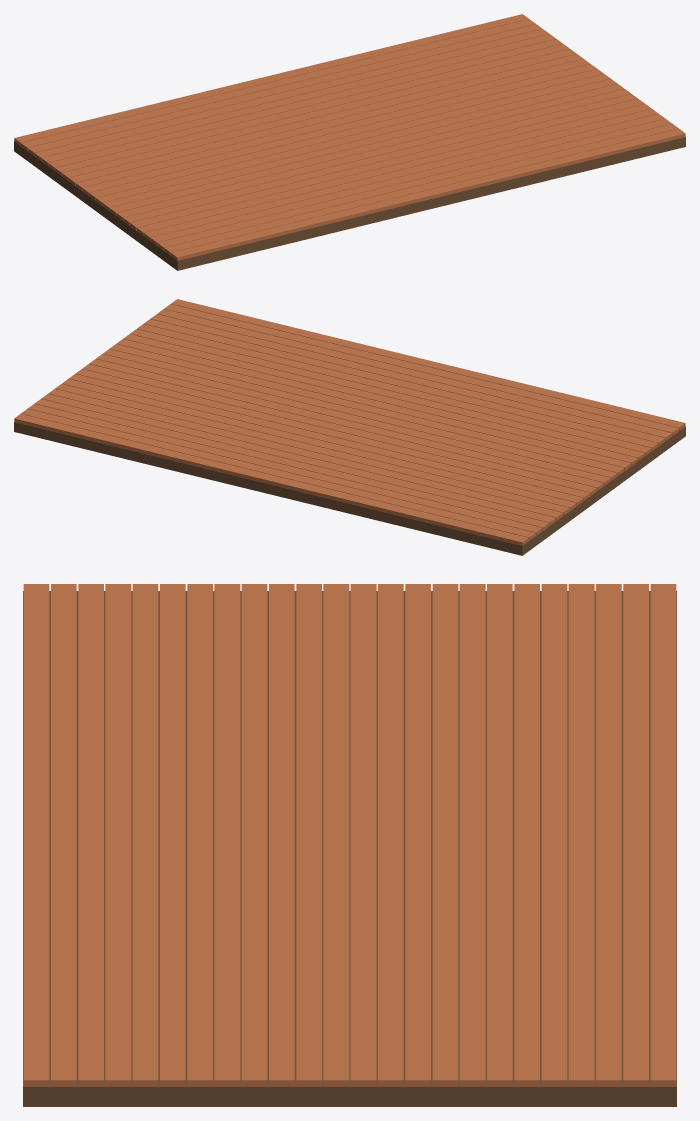
The model's file is PatioDeck.obj.
The picture shows the model from 3 angles, top to bottom: view 1: azimuth 30°, elevation 25°; view 2: azimuth 150°, elevation 25°; view 3: azimuth 270°, elevation 25°; orthographic projection. The views are drawn at different scales.
Visible parts, largest first — view 1: PatioDeck; view 2: PatioDeck; view 3: PatioDeck.
Part boxes in pixels (x1,y1,x2,y2): PatioDeck: [14, 14, 685, 270]; PatioDeck: [14, 299, 685, 555]; PatioDeck: [23, 584, 676, 1106].
Bounding box in the file's own units: 14 × 0.35 × 7.8.
1 material, 1 textured.
